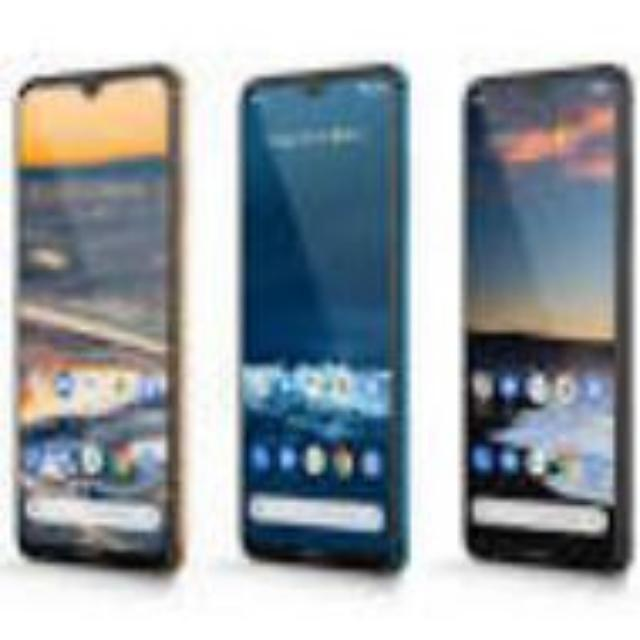phone: (232, 56, 418, 572), (454, 52, 636, 568), (8, 58, 186, 572)
